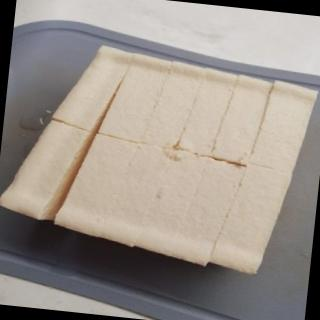Tahu: (1, 45, 318, 275)
